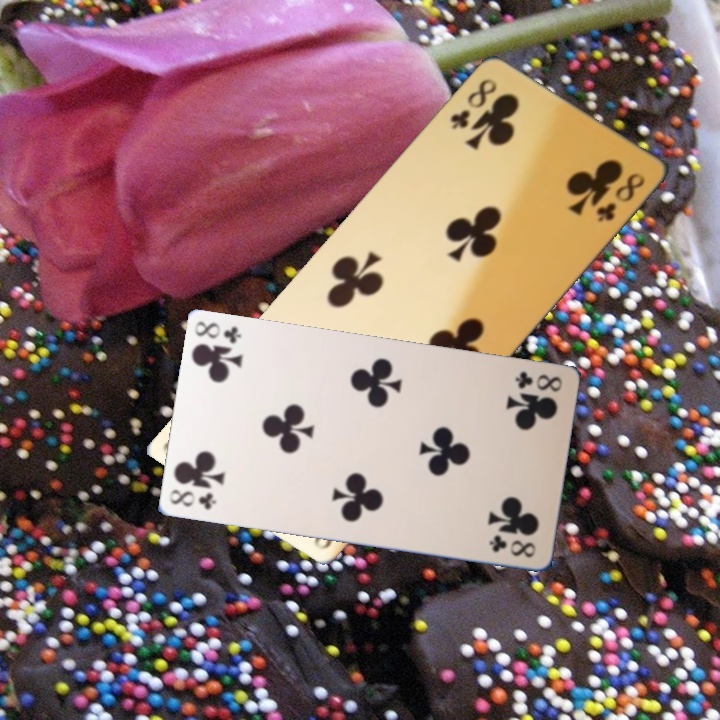8c: (589, 161, 657, 229), (441, 68, 508, 136), (511, 367, 570, 397), (193, 319, 252, 348), (486, 533, 544, 562), (168, 485, 226, 514)
